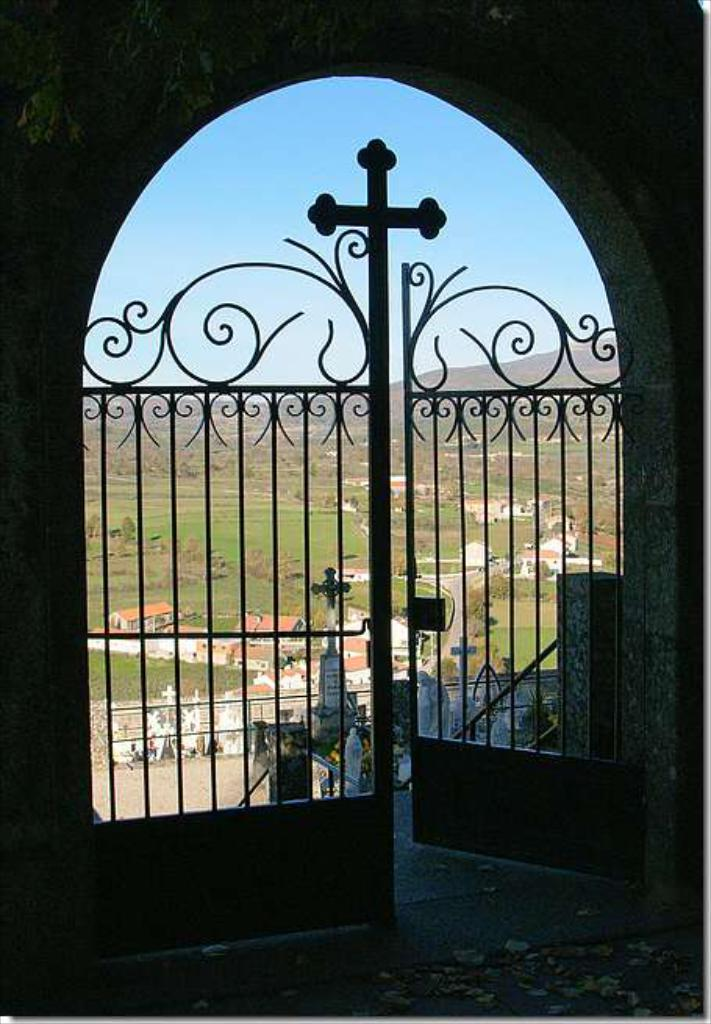Tree: (523, 708, 562, 748), (418, 653, 462, 687), (471, 581, 489, 620), (487, 565, 506, 601), (246, 551, 271, 576), (279, 554, 300, 581), (478, 650, 506, 670), (84, 517, 106, 542), (117, 519, 139, 537)
